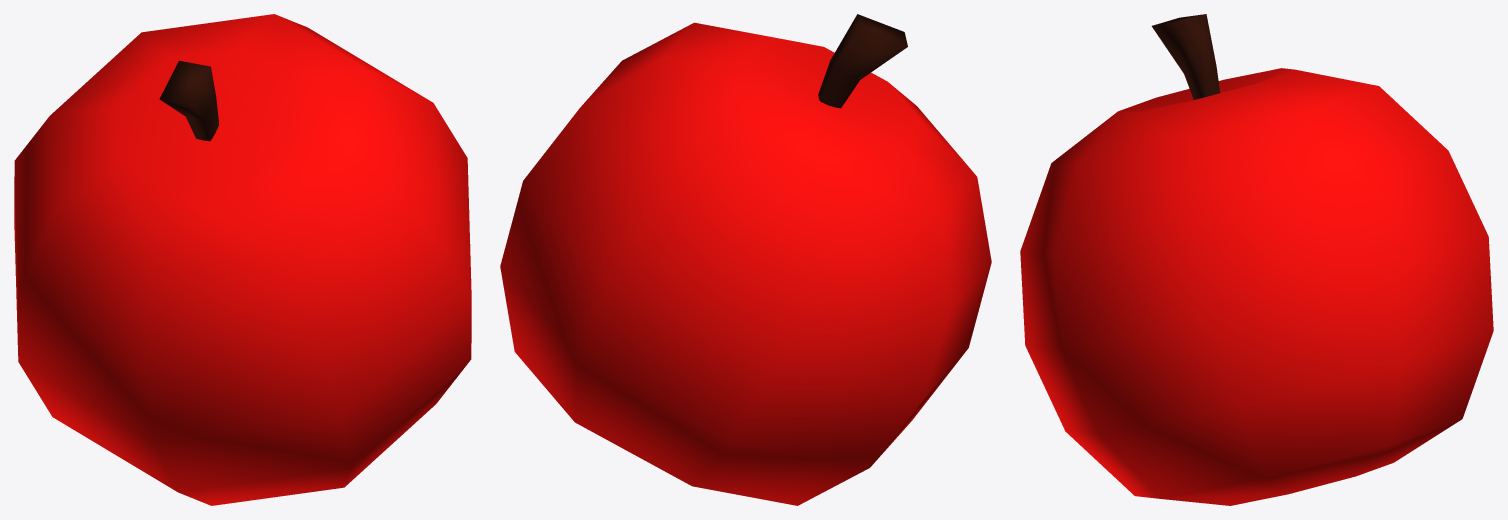
Rendered from apple.fbx.
3 renders of one model, left to right at view 1: azimuth 30°, elevation 25°; view 2: azimuth 150°, elevation 25°; view 3: azimuth 270°, elevation 25°, orthographic. The views are drawn at different scales.
Parts seen in each view (by area): view 1: Sphere, Sphere.001; view 2: Sphere, Sphere.001; view 3: Sphere, Sphere.001.
Boxes of the visible parts, left/top/right/bottom form: Sphere: left=14, top=14, right=471, bottom=505; Sphere.001: left=159, top=60, right=219, bottom=141; Sphere: left=500, top=22, right=991, bottom=505; Sphere.001: left=818, top=14, right=907, bottom=108; Sphere: left=1020, top=68, right=1493, bottom=505; Sphere.001: left=1151, top=14, right=1219, bottom=99.
Size of the model in its own units: 47.76 by 48.07 by 46.69.
